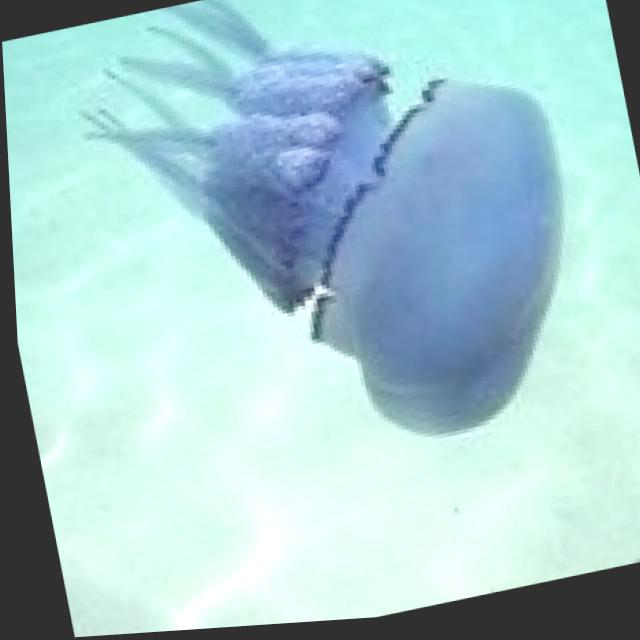Box-jellyfish: (60, 0, 609, 503)
